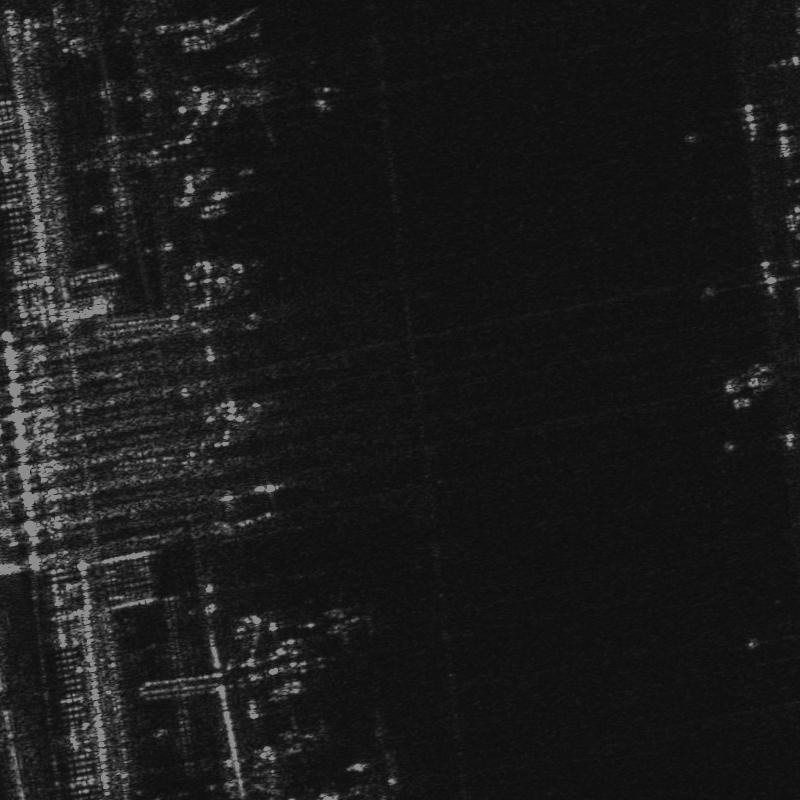Boeing737: (343, 777, 409, 799)
